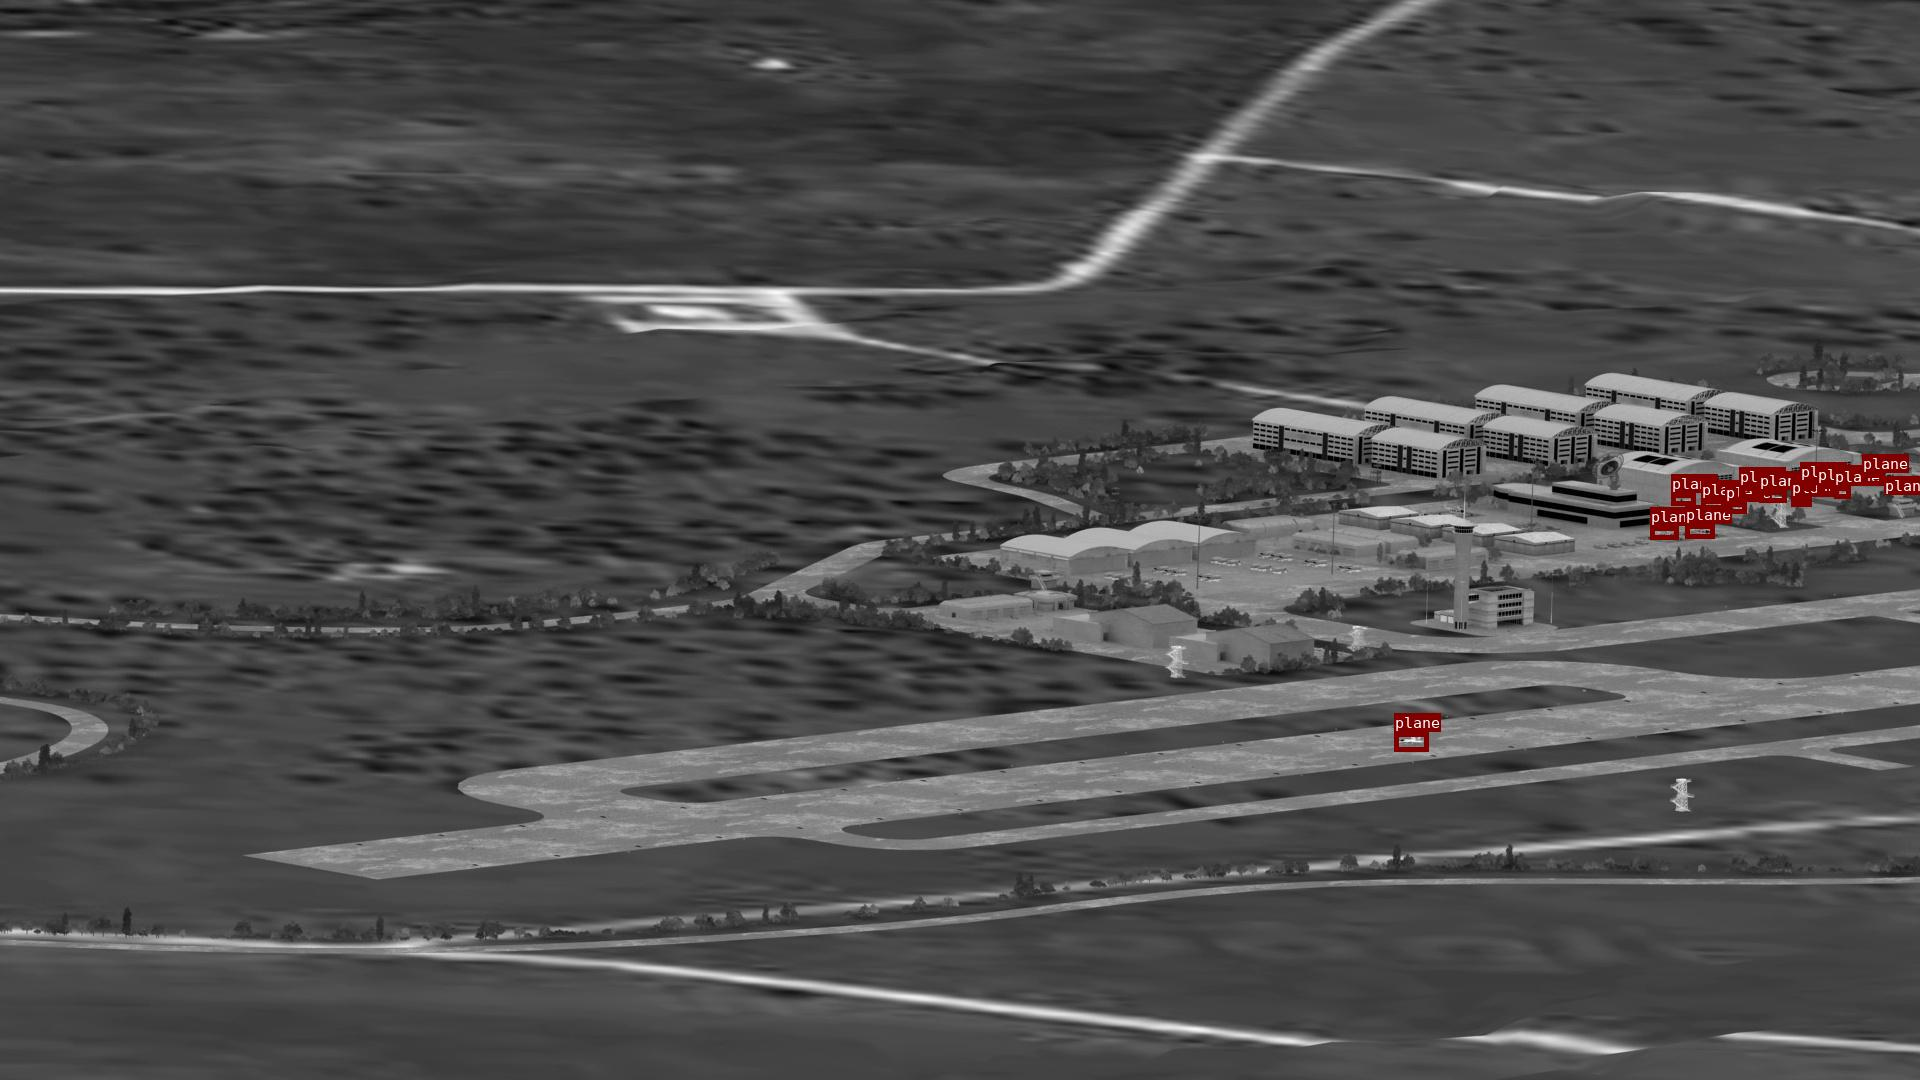plane: (1394, 732, 1428, 752), (1685, 524, 1714, 538), (1650, 526, 1677, 539), (1759, 491, 1785, 502), (1671, 493, 1695, 505), (1701, 498, 1725, 510), (1862, 473, 1884, 485), (1725, 502, 1746, 513), (1739, 487, 1758, 498), (1834, 487, 1850, 498), (1884, 476, 1900, 488), (1791, 497, 1811, 506), (1817, 484, 1834, 495), (1800, 481, 1815, 491)
